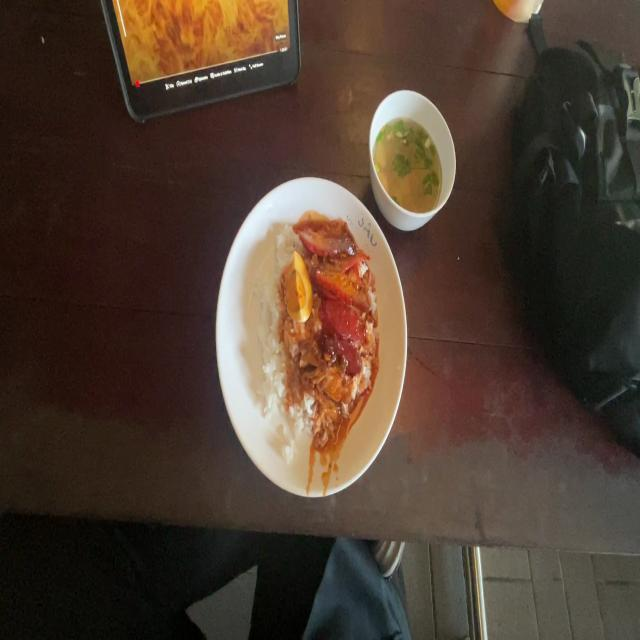01red_pork_and_crispy_pork: (268, 239, 370, 420)
